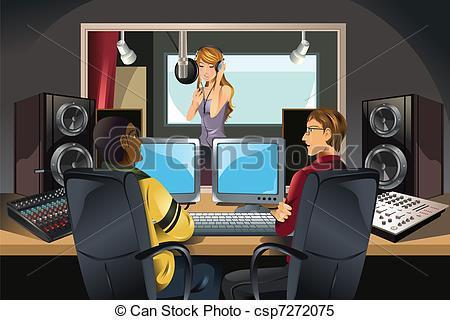chair: (62, 168, 195, 300), (252, 167, 384, 298)
person: (221, 107, 352, 301), (91, 115, 217, 300), (184, 44, 236, 148)
tvmonitor: (209, 137, 285, 214), (132, 136, 199, 202)
